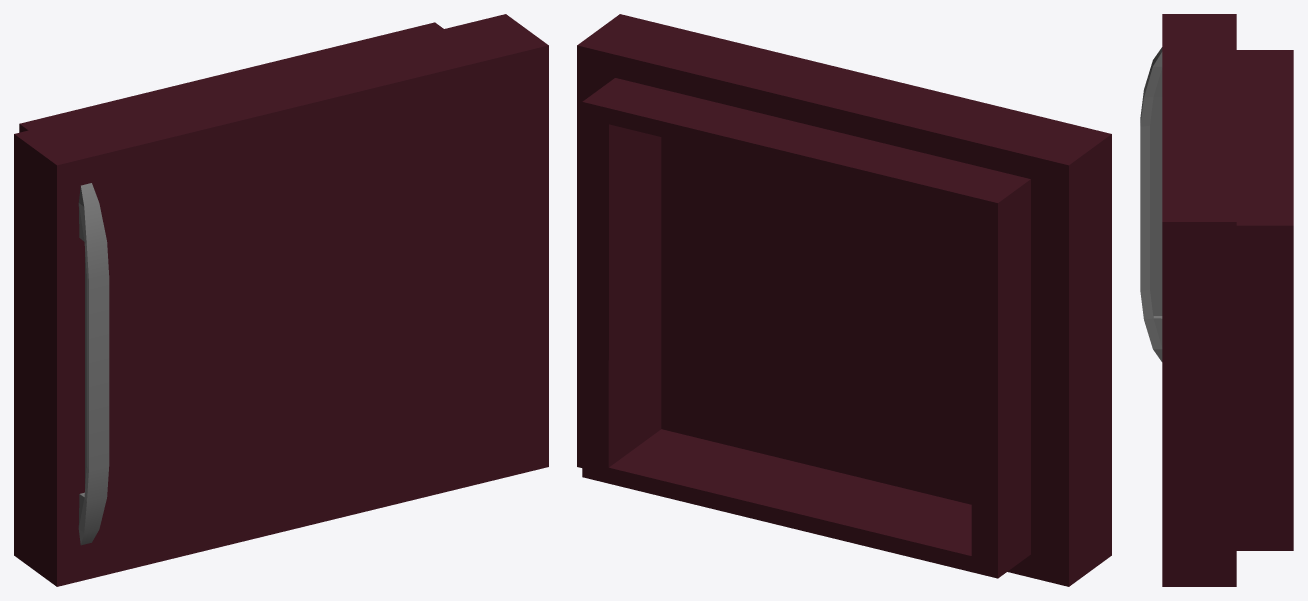
File: Itr_Obj_Fridge2_Bottom_Door_04.FBX
3 views of the same model, side by side, from view 1: azimuth 30°, elevation 25°; view 2: azimuth 150°, elevation 25°; view 3: azimuth 270°, elevation 25° (orthographic). The views are drawn at different scales.
Visible parts, largest first — view 1: Itr_Obj_Fridge2_Bottom_Door_04; view 2: Itr_Obj_Fridge2_Bottom_Door_04; view 3: Itr_Obj_Fridge2_Bottom_Door_04.
Boxes of the visible parts, box(x1,y1,x2,y2) form: Itr_Obj_Fridge2_Bottom_Door_04: box(14, 14, 548, 586); Itr_Obj_Fridge2_Bottom_Door_04: box(577, 14, 1111, 586); Itr_Obj_Fridge2_Bottom_Door_04: box(1140, 14, 1293, 586).
Bounding box in the file's own units: 34.44 × 28.21 × 10.74.
